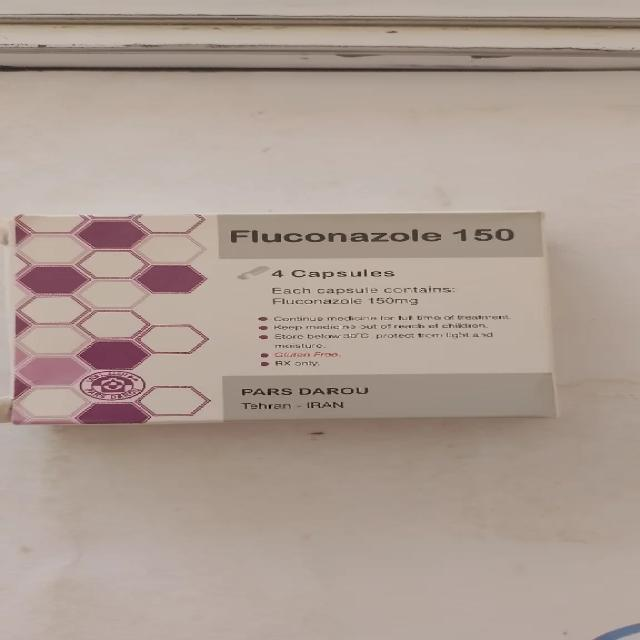drug-name: (228, 228, 514, 242)
